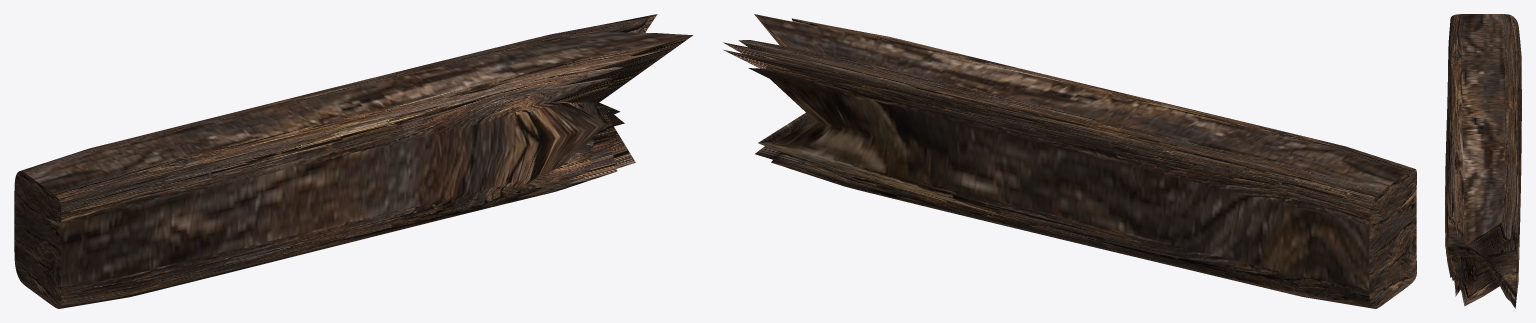
File: scarf_beam.glb
The picture shows the model from 3 angles, left to right: view 1: azimuth 30°, elevation 25°; view 2: azimuth 150°, elevation 25°; view 3: azimuth 270°, elevation 25°; orthographic projection. The views are drawn at different scales.
Parts seen in each view (by area): view 1: scarf_beam; view 2: scarf_beam; view 3: scarf_beam.
Part boxes in pixels (<box>): scarf_beam: <box>14,14,692,308</box>; scarf_beam: <box>723,14,1416,308</box>; scarf_beam: <box>1445,14,1521,308</box>.
Bounding box in the file's own units: 2.11 × 0.38 × 0.2966.
1 material, 1 textured.
